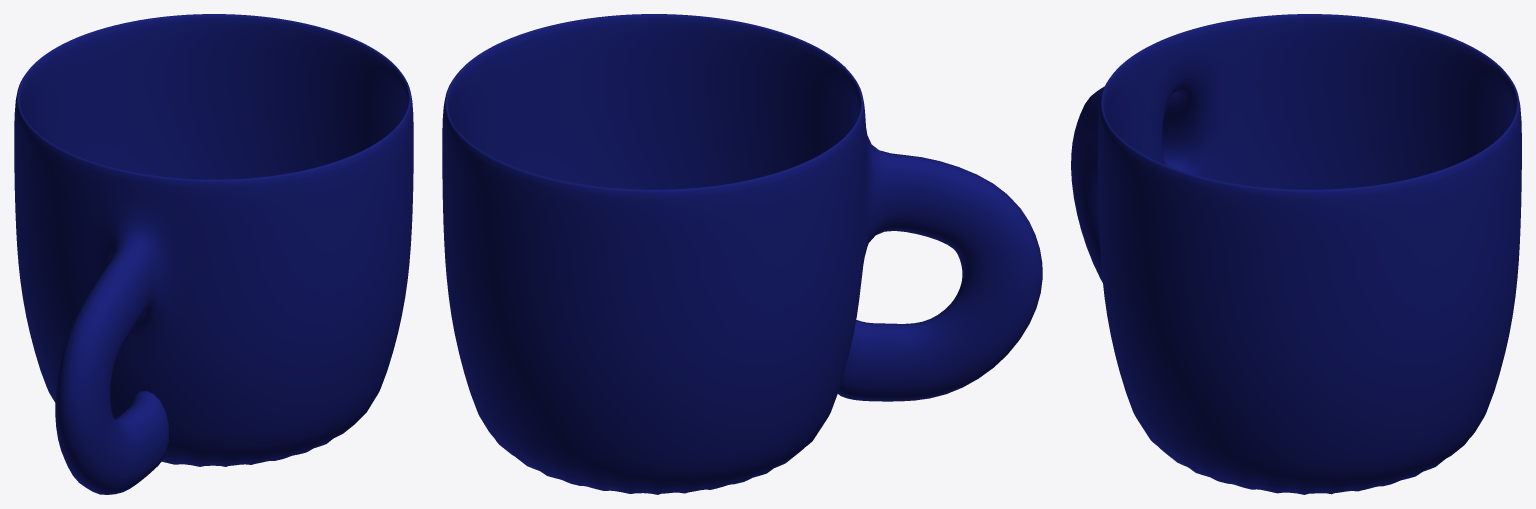
File: Coffee Cup Empty.fbx
3 views of the same model, side by side, from view 1: azimuth 30°, elevation 25°; view 2: azimuth 150°, elevation 25°; view 3: azimuth 270°, elevation 25° (orthographic). The views are drawn at different scales.
Visible parts, largest first — view 1: Circle; view 2: Circle; view 3: Circle.
Boxes of the visible parts, x1,y1,x2,y2 form: Circle: (14,14,413,494); Circle: (442,14,1042,494); Circle: (1071,14,1521,494).
Bounding box in the file's own units: 686 × 502 × 583.
